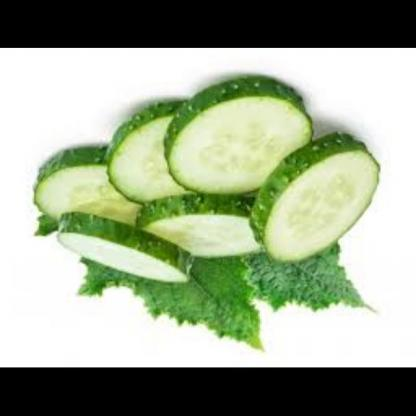cucumber: (38, 81, 382, 288)
